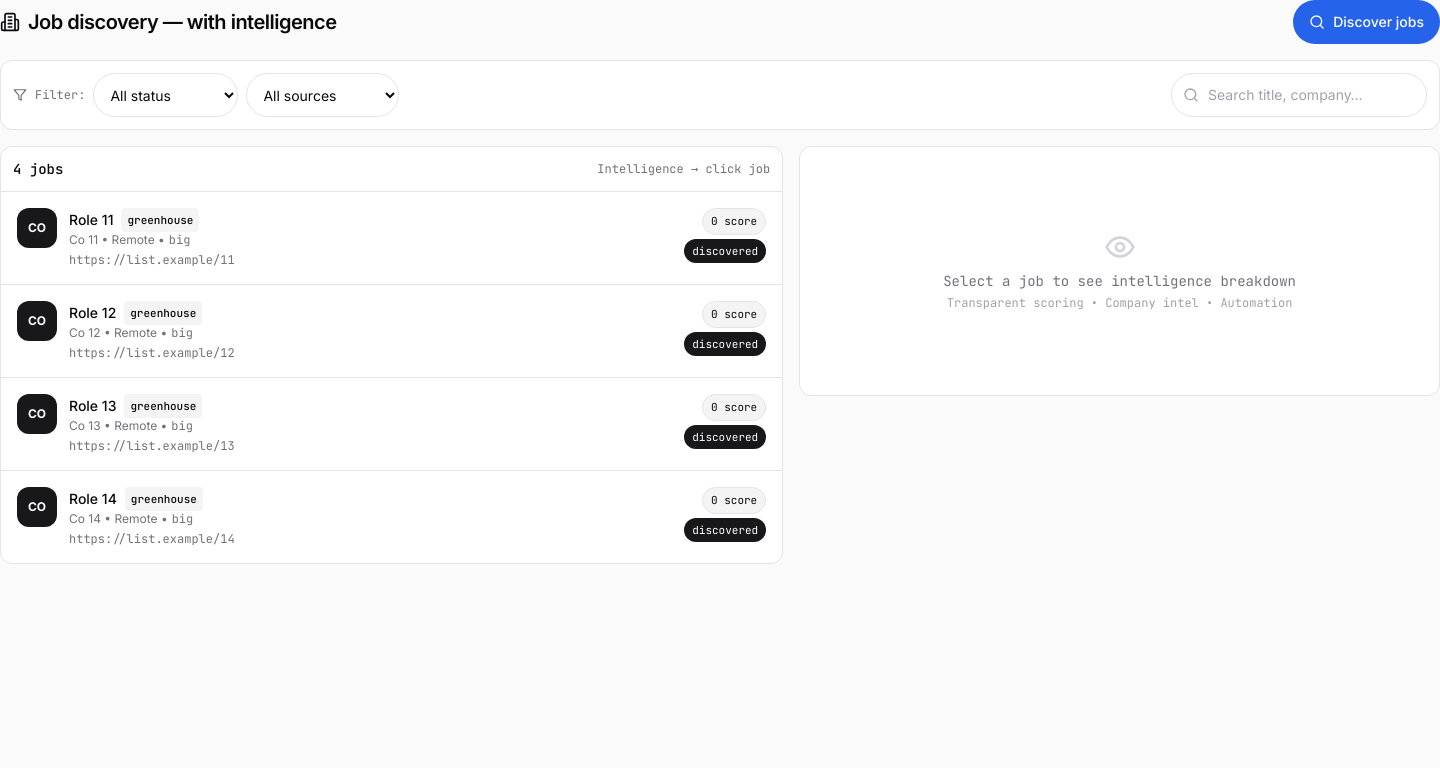
Test case: job selection under rapid clicking › keeps switching the panel through a burst of clicks
Step 1. Click the text "https://list.example/11" → [152, 260], box [69,252,235,268]
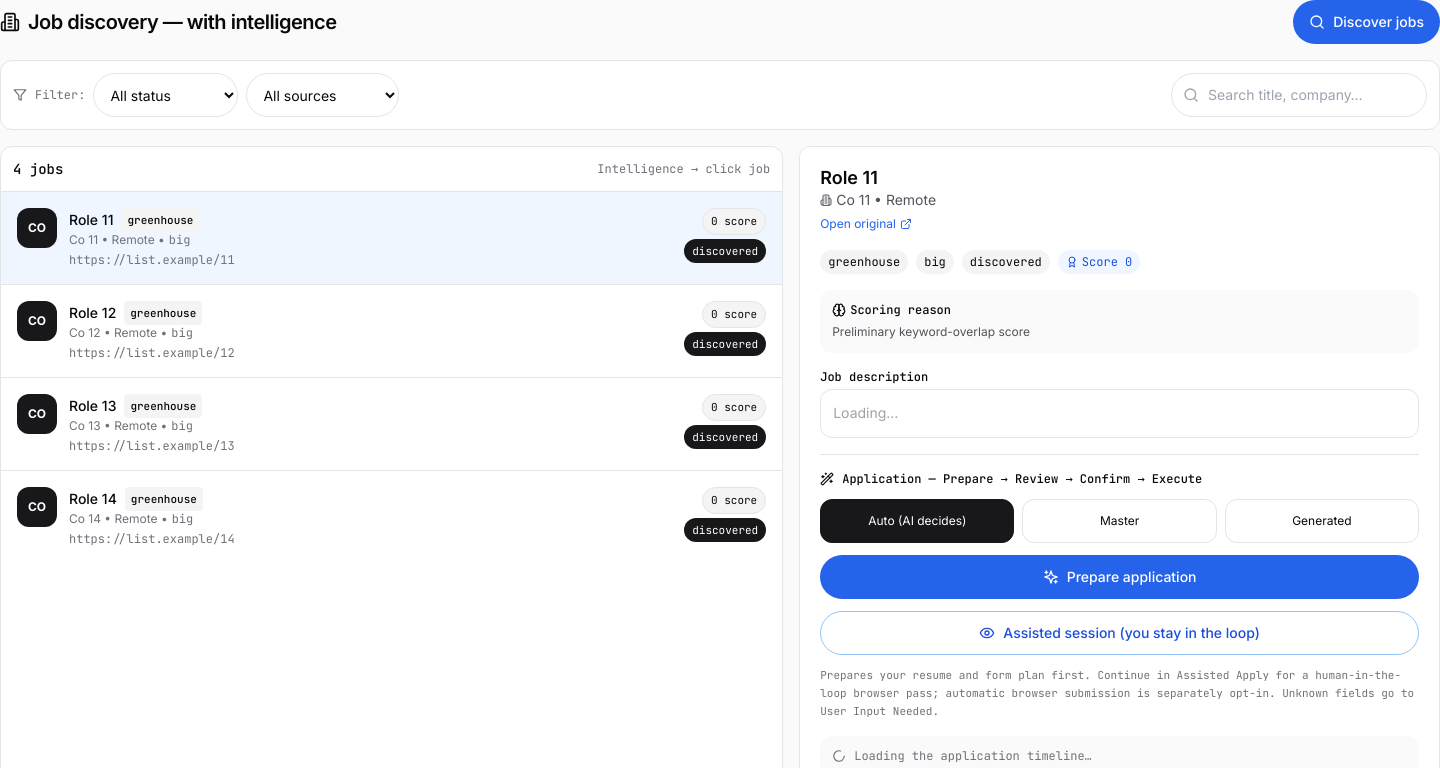
Step 2. Click the text "https://list.example/12" → [152, 353], box [69,345,235,361]
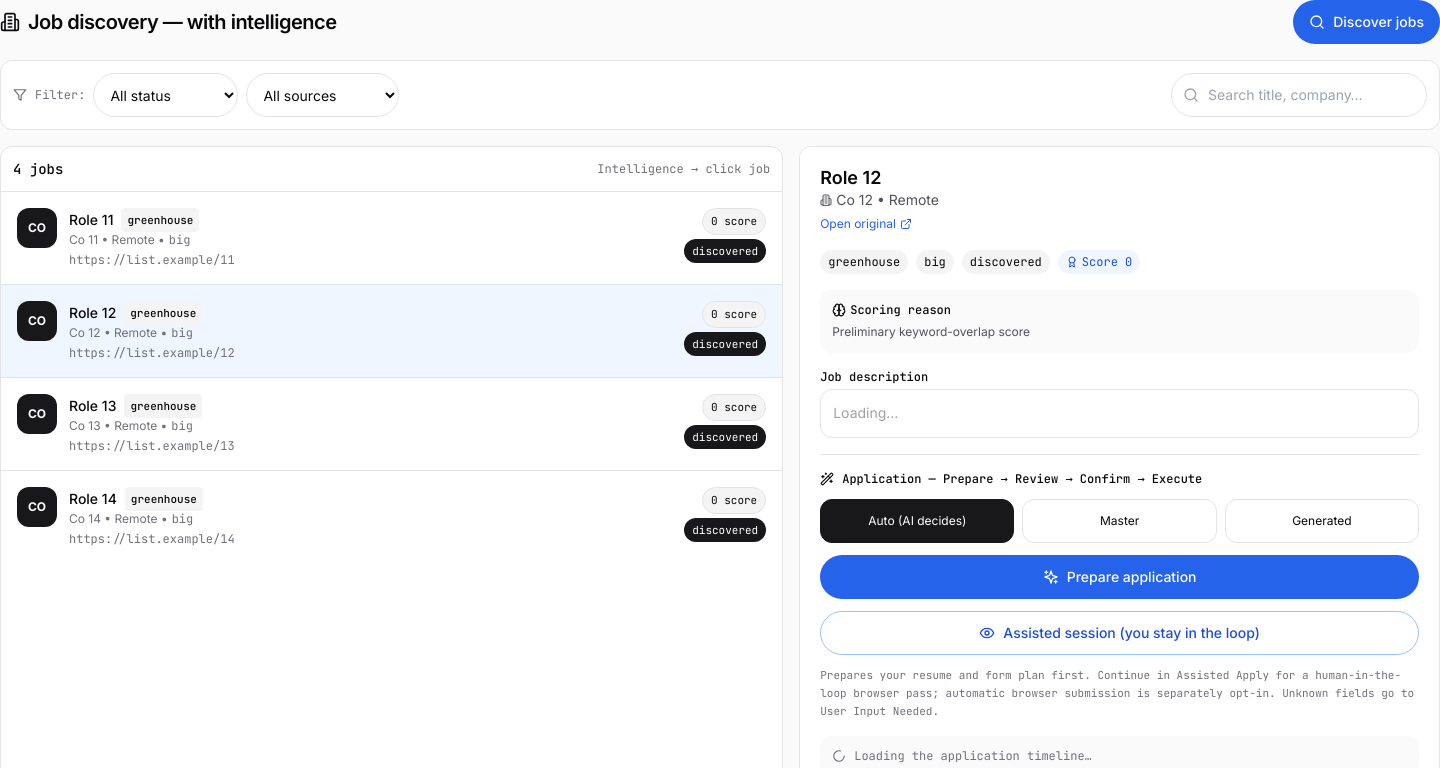
Step 3. Click the text "https://list.example/13" → [152, 446], box [69,438,235,454]
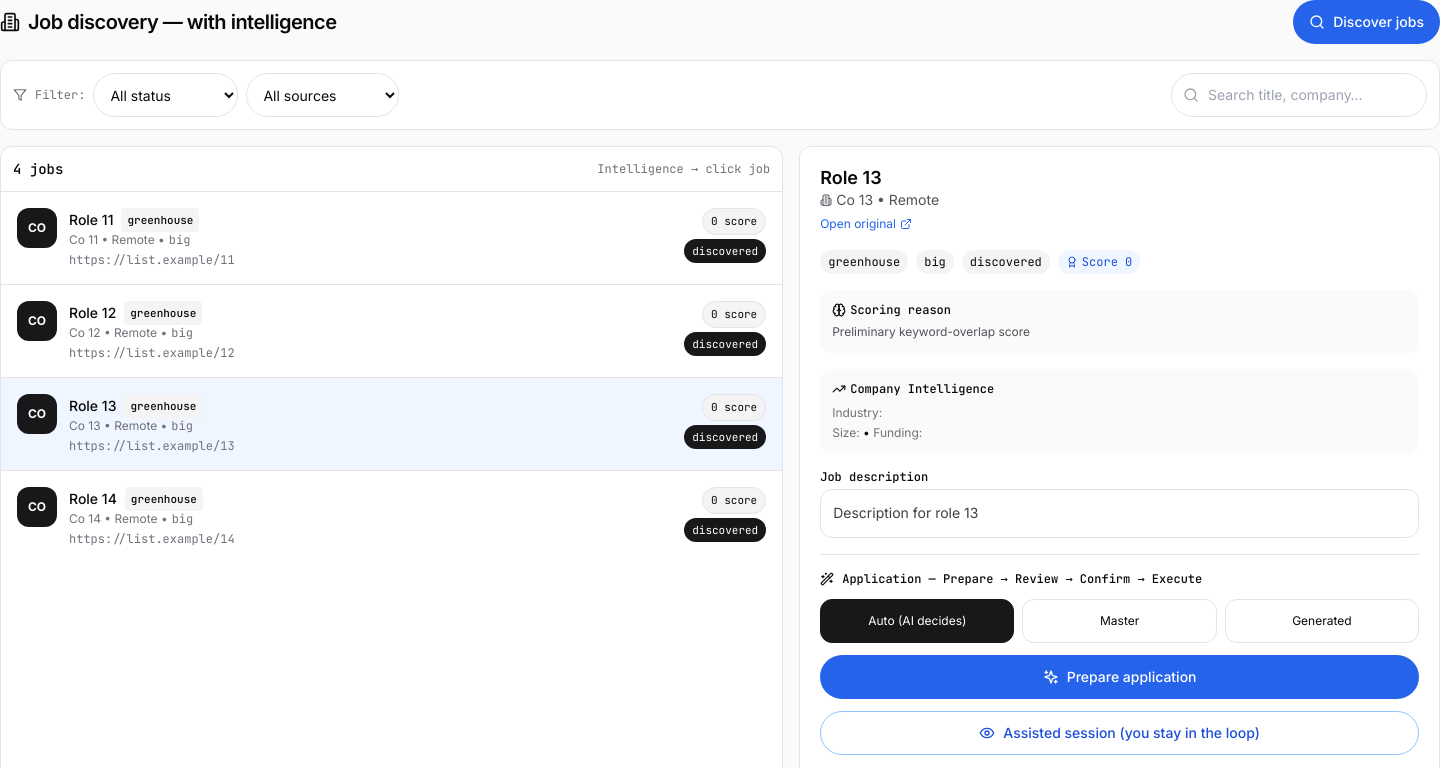
Step 4. Click the text "https://list.example/14" → [152, 539], box [69,531,235,547]
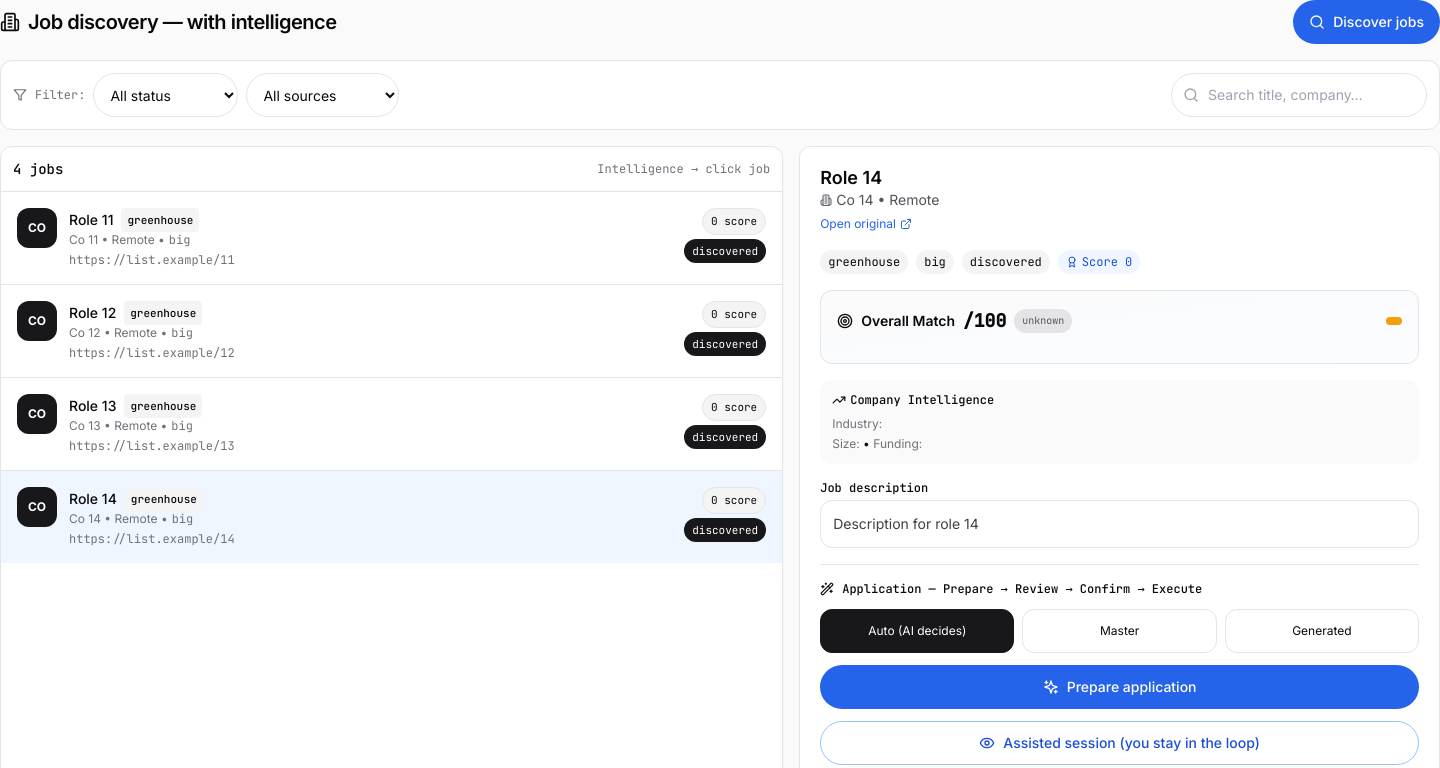
Expected: the text "Description for role 14" is shown, [820,500,1419,548]
